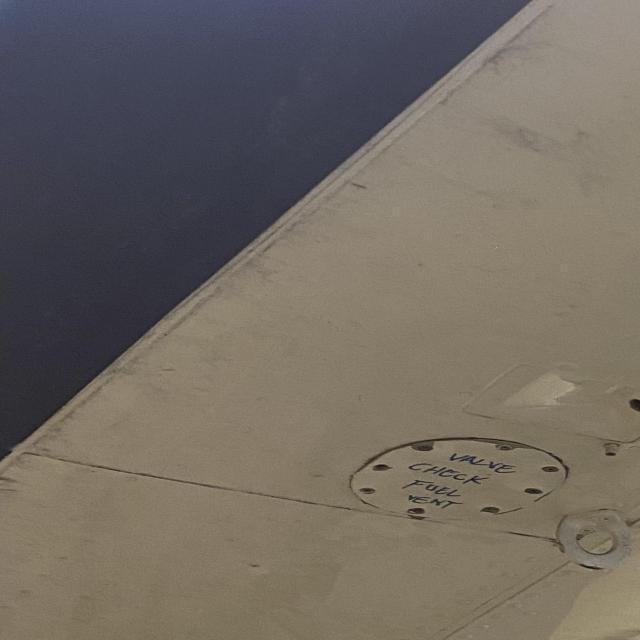Missing-head: (374, 463, 390, 470)
Paint-off: (455, 436, 531, 447), (399, 438, 437, 449)
